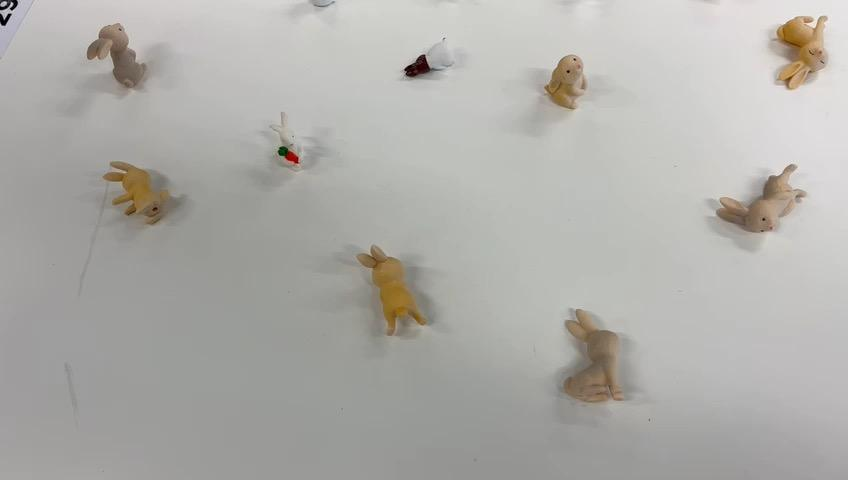pet: (683, 160, 808, 262), (348, 220, 432, 347), (548, 288, 635, 409), (751, 3, 837, 97), (91, 150, 175, 240), (534, 38, 611, 129), (386, 35, 472, 93), (268, 100, 320, 182), (68, 20, 96, 35)
